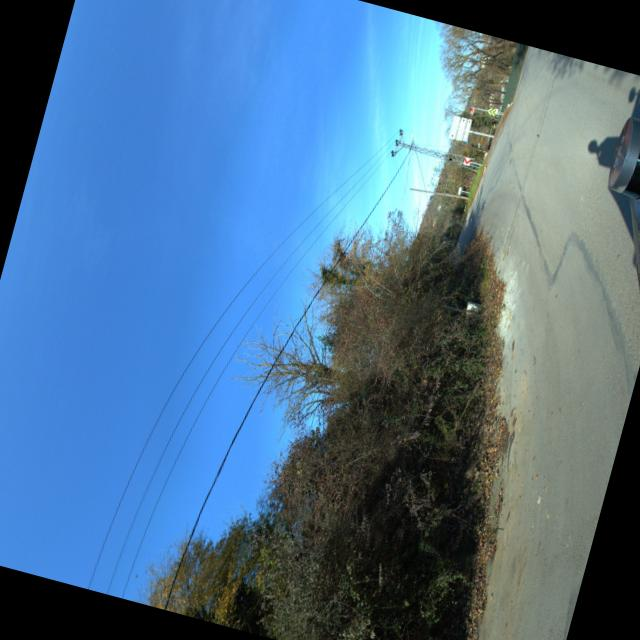Utility Pole Information Plate: (463, 155, 471, 164), (449, 157, 452, 159)
